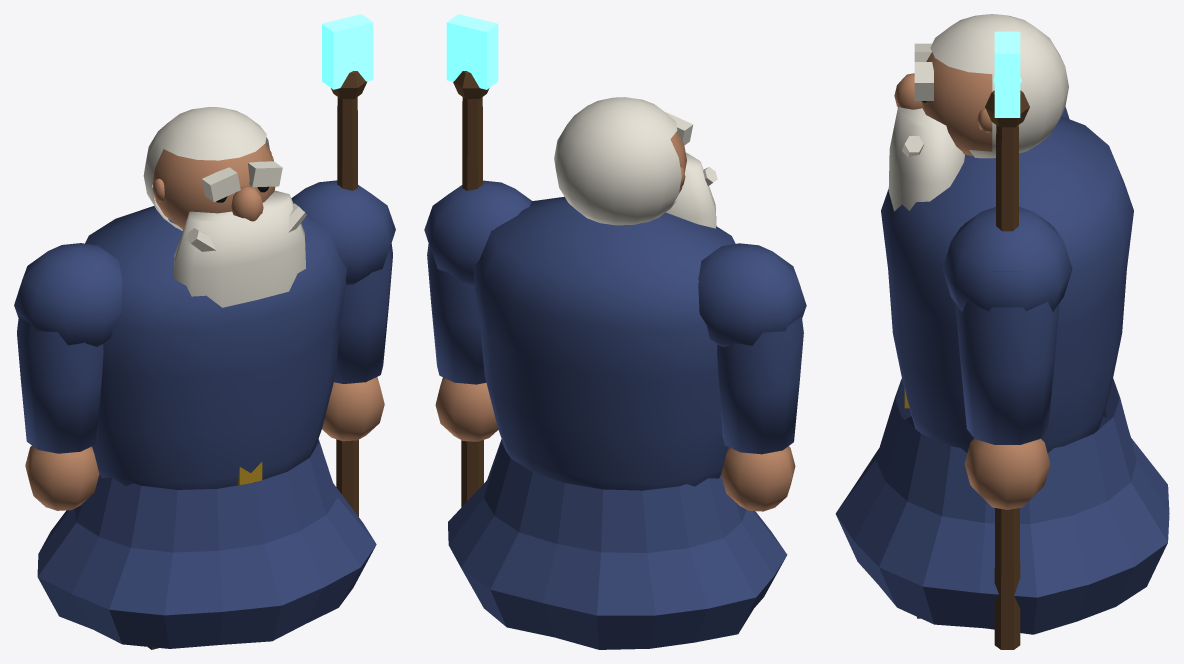
The model's file is dwarf_shaman.glb.
3 renders of one model, left to right at view 1: azimuth 30°, elevation 25°; view 2: azimuth 150°, elevation 25°; view 3: azimuth 270°, elevation 25°, orthographic. The views are drawn at different scales.
Visible parts, largest first — view 1: Body, Head, ArmR, ArmL; view 2: Body, Head, ArmR, ArmL; view 3: Body, ArmR, Head.
Part boxes in pixels (x1=…): Body: x1=14, y1=180, x2=395, y2=648; Head: x1=143, y1=107, x2=306, y2=307; ArmR: x1=322, y1=14, x2=392, y2=516; ArmL: x1=17, y1=285, x2=103, y2=510; Body: x1=424, y1=180, x2=806, y2=649; Head: x1=554, y1=97, x2=717, y2=228; ArmR: x1=427, y1=14, x2=498, y2=507; ArmL: x1=717, y1=288, x2=803, y2=511; Body: x1=835, y1=106, x2=1169, y2=634; ArmR: x1=955, y1=31, x2=1059, y2=649; Head: x1=888, y1=14, x2=1068, y2=211.
Size of the model in its own units: 1.45 by 2.06 by 1.03.
